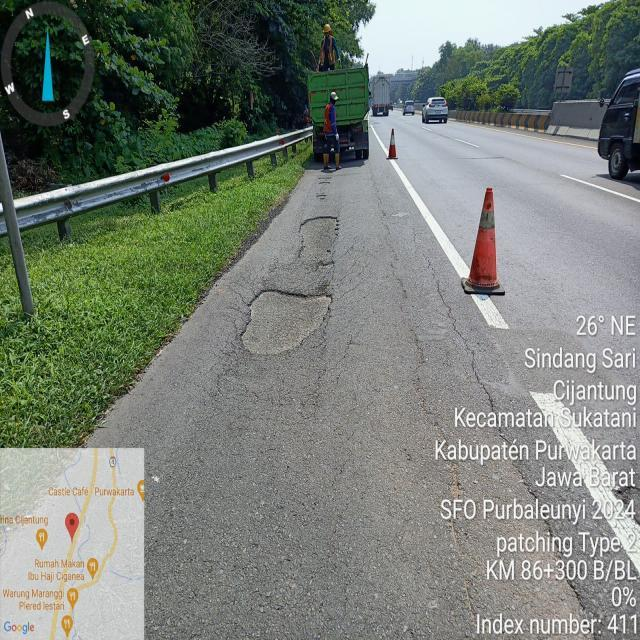Buraco: (236, 286, 336, 359), (295, 214, 342, 275), (609, 484, 640, 526), (317, 176, 333, 182), (317, 181, 332, 185), (314, 194, 328, 198)
